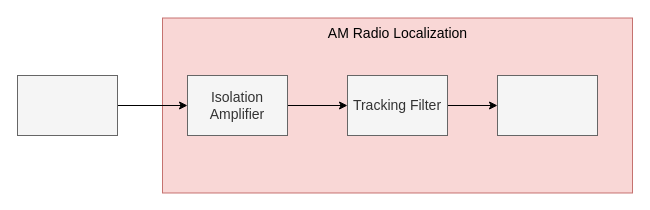
The diagram is 650 pixels wide and 210 high, and some of its shapes have lost their labels. Here are the shapes that lost their labels. From the top down, the centre of each, then its label:
the point at 67,105: Active Antenna
the point at 547,105: Triode Mixer
